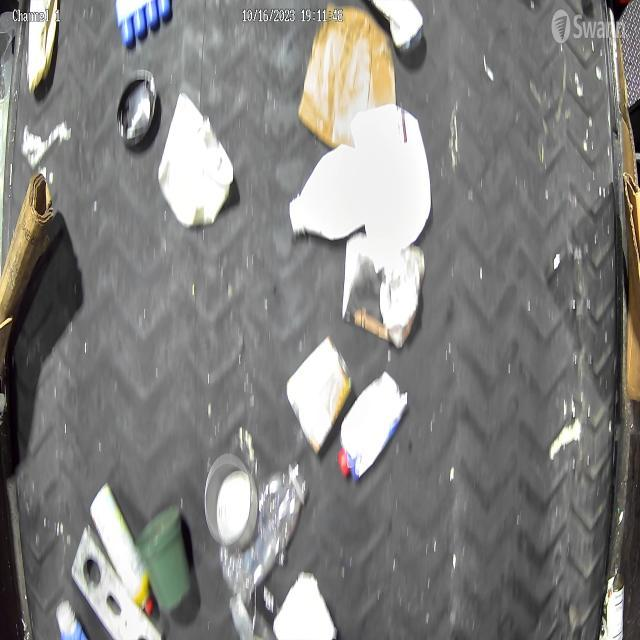can: (286, 334, 353, 456), (204, 450, 260, 548), (602, 571, 626, 640)
plastic_bottle: (215, 456, 308, 600)
